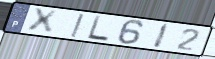2: (175, 28, 202, 52)
6: (117, 19, 146, 46)
I: (151, 22, 171, 50), (69, 12, 85, 39)
L: (86, 14, 111, 43)
X: (26, 7, 60, 35)
